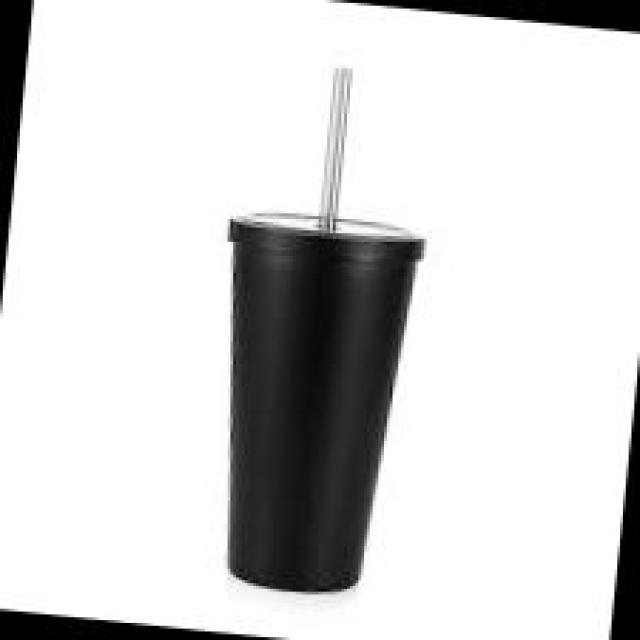bottle: (181, 52, 445, 604)
